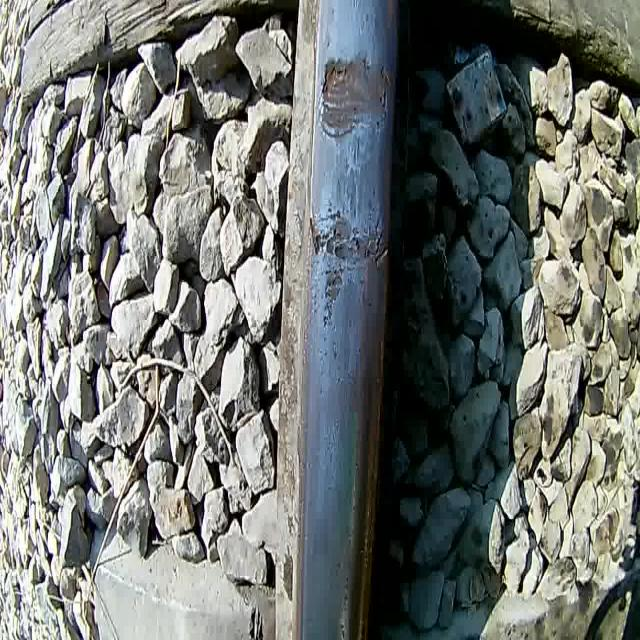Spallings: (302, 196, 394, 335), (377, 59, 394, 130), (320, 59, 350, 96)
Squats: (317, 46, 395, 146)
